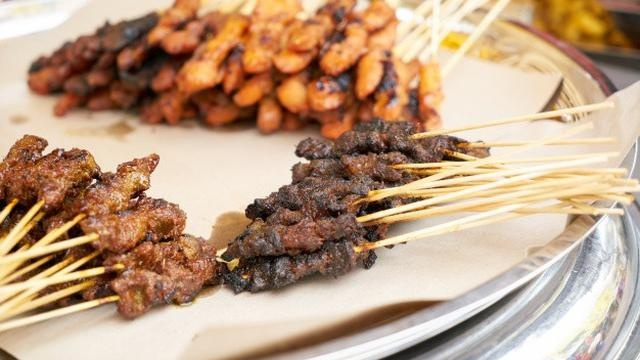sate_madura: (221, 118, 640, 296), (28, 1, 508, 133), (1, 122, 221, 335)
